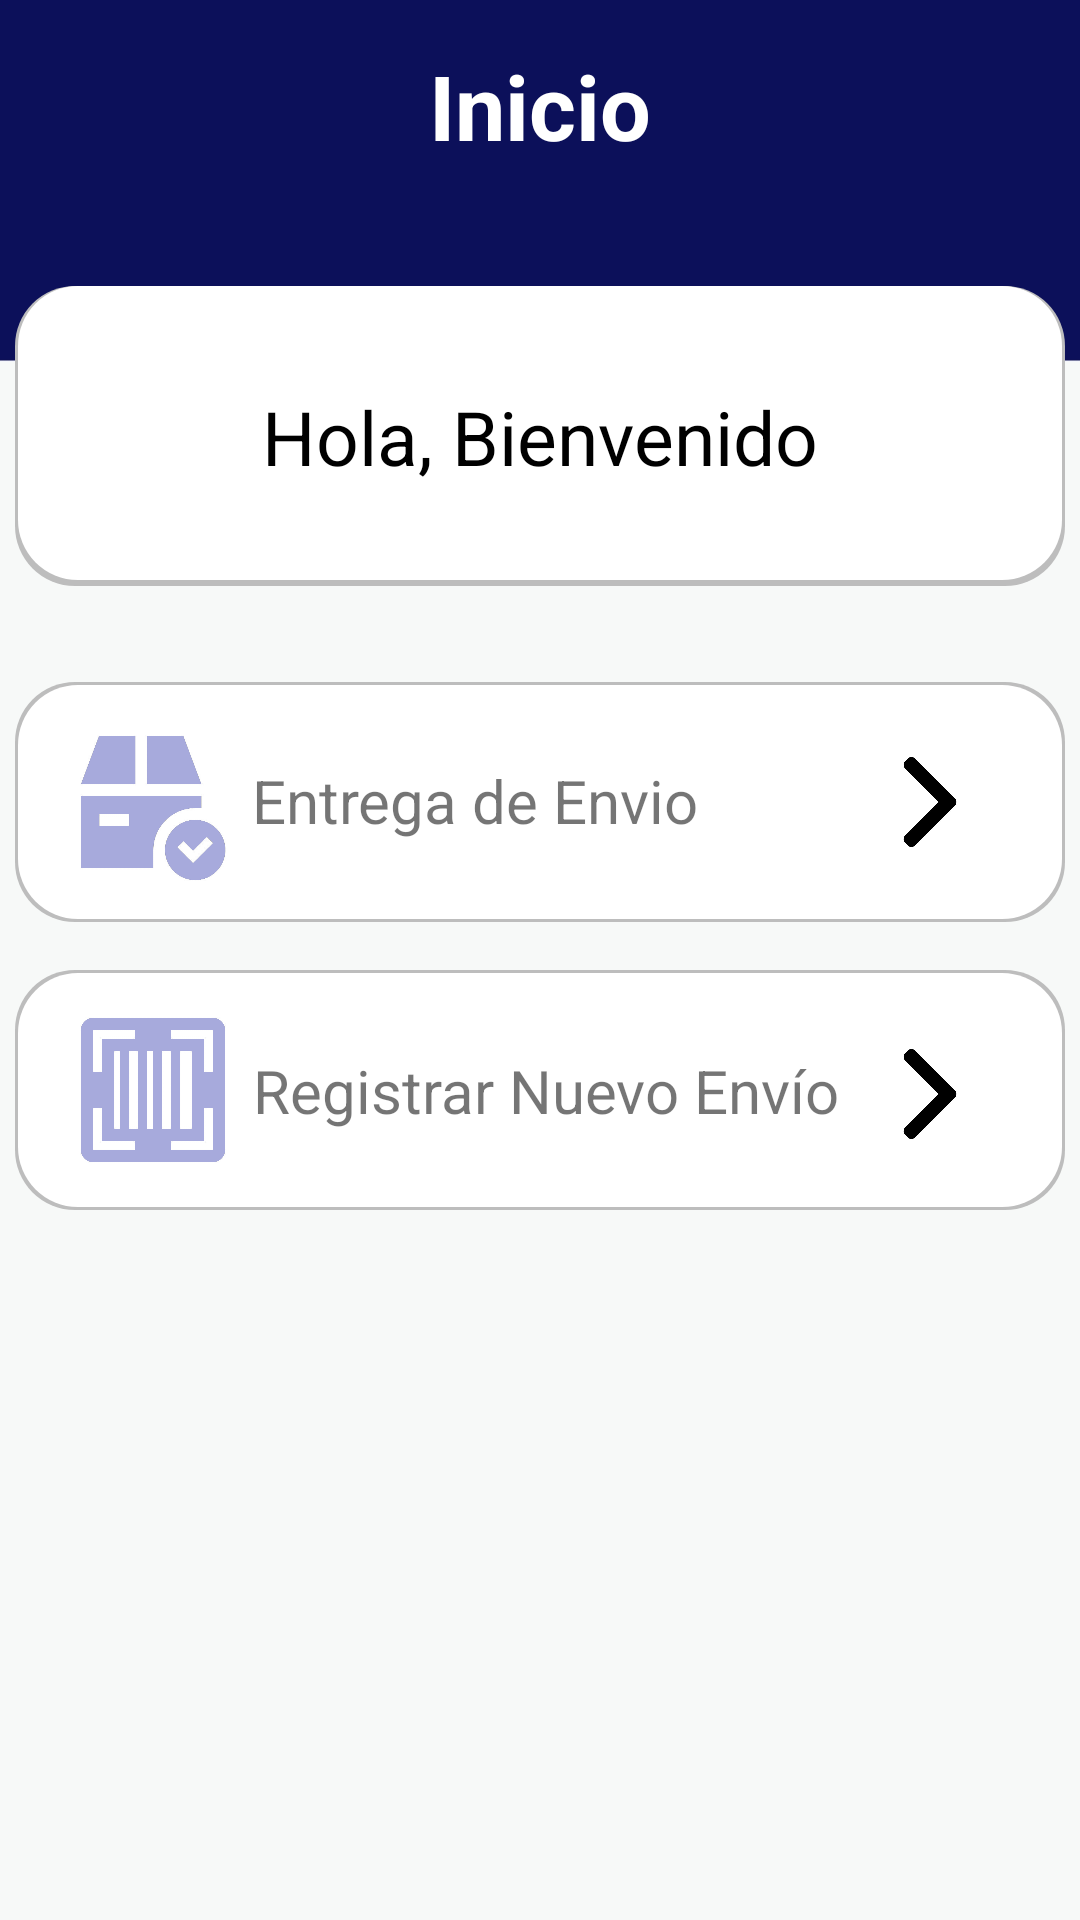

Screen size 1080w x 1920h. Icon name, then its box in pixels as (x1, y1, x2, y2):
entregar envio: (81, 736, 226, 880)
next: (903, 757, 957, 847), (903, 1049, 957, 1139)
registrar envio: (81, 1018, 225, 1162)
